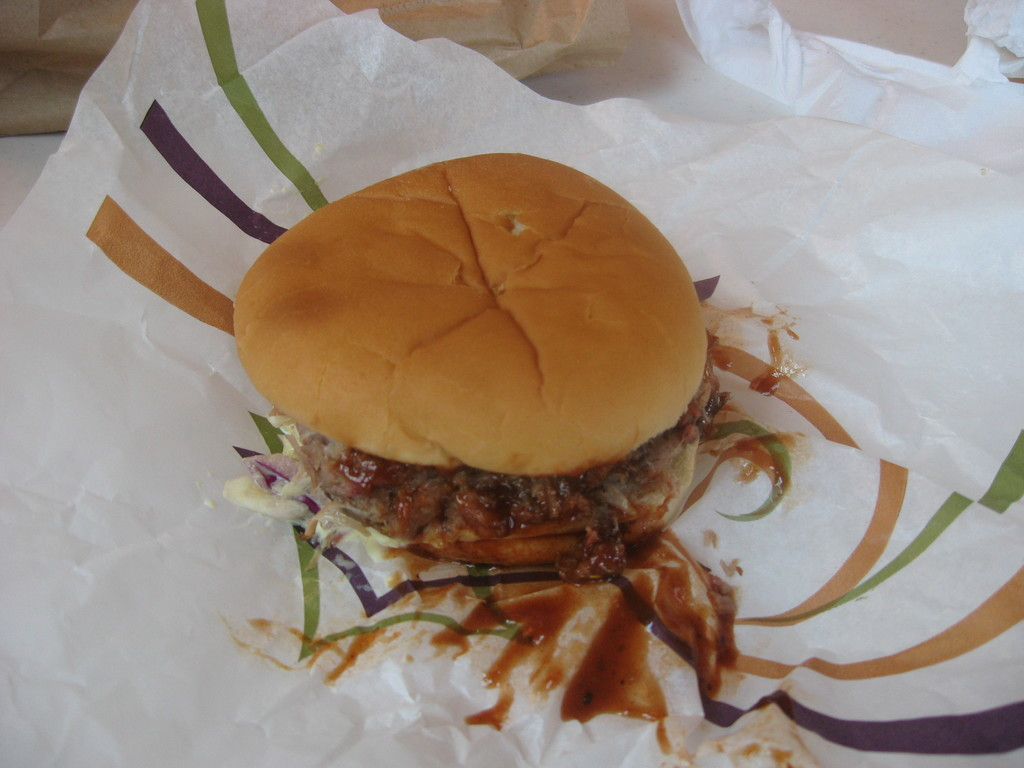Hamburger: (227, 148, 723, 568)
